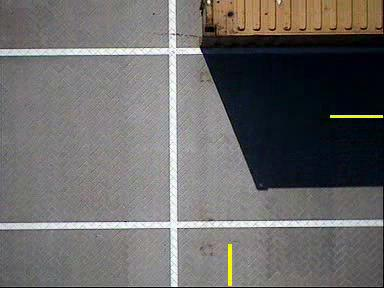groundmarker_2: (74, 58, 172, 127)
